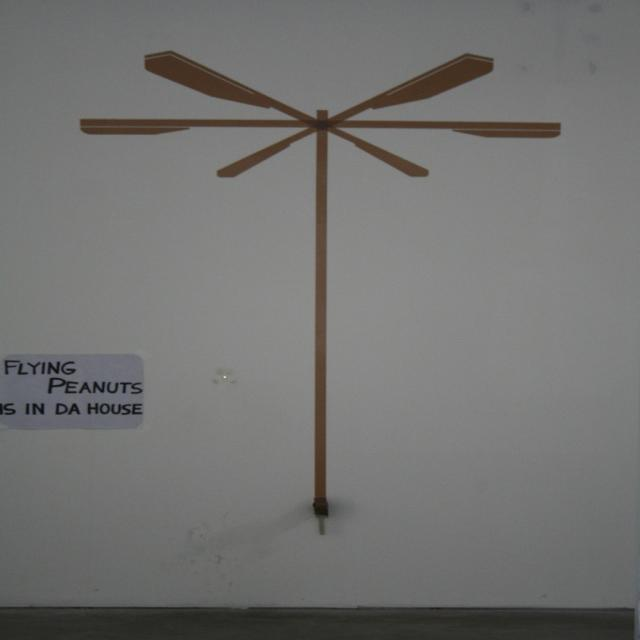Bulb: (78, 52, 561, 179)
